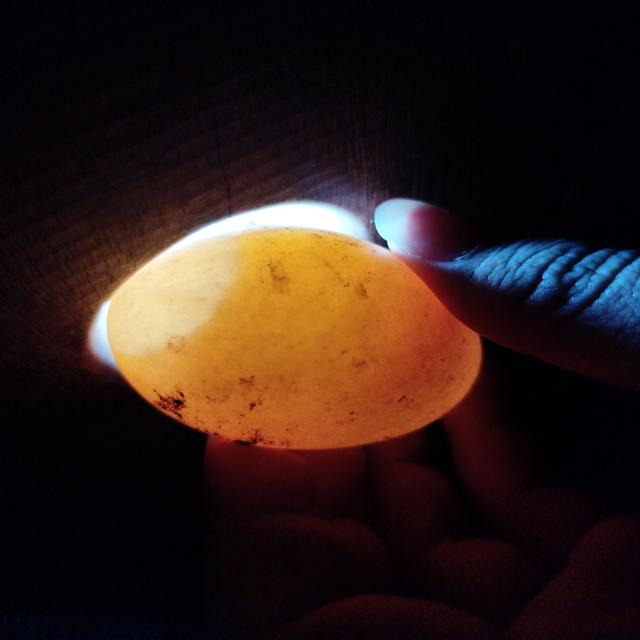Camara de Ar: (107, 236, 239, 356)
